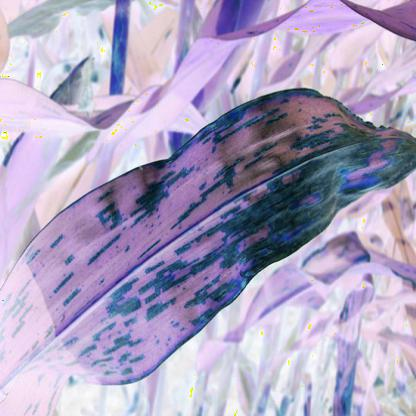corn gray leaf spot: (26, 89, 415, 393)
